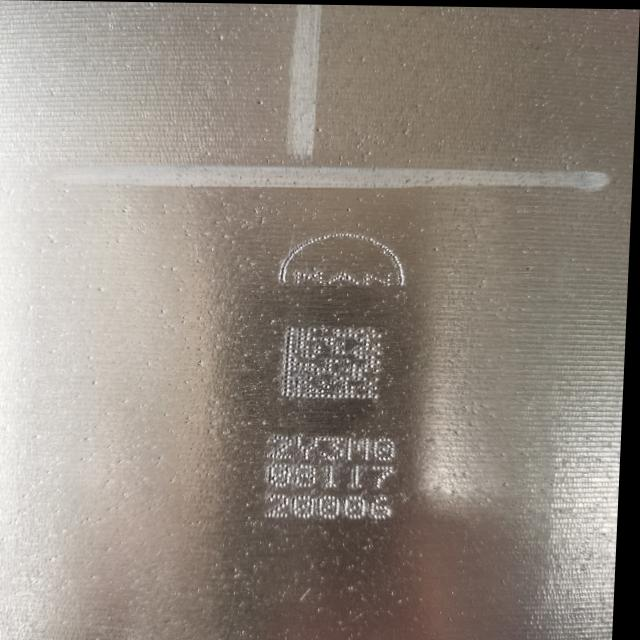dmc: (286, 325, 385, 398)
